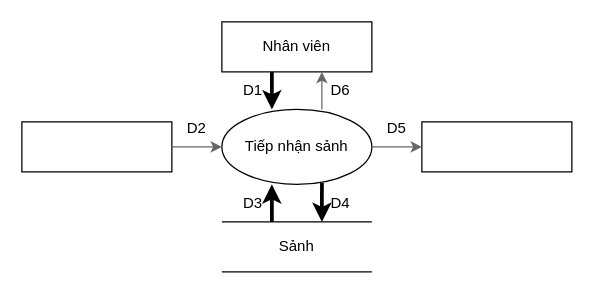
The diagram is 594 pixels wide and 295 high, and some of its shapes have lost their labels. Each missing label, with the box of its shape:
TB nhập: (21, 121, 172, 172)
TB xuất: (421, 121, 572, 172)
